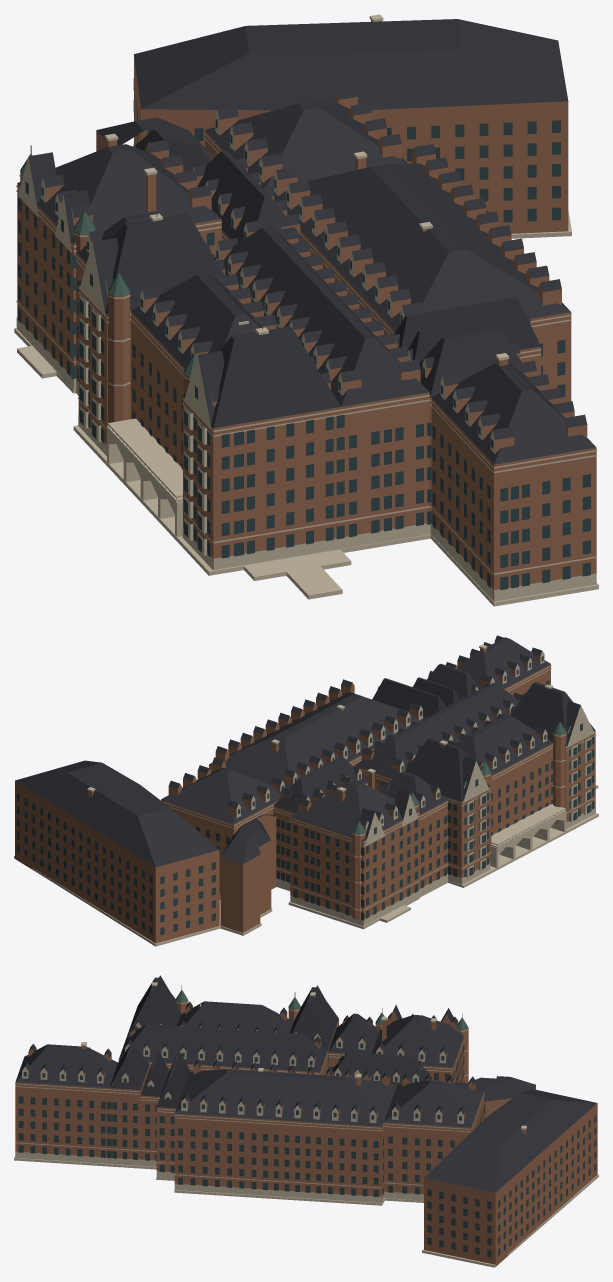
File: fairmont-empress-far.glb
3 views of the same model, one above another, from view 1: azimuth 30°, elevation 25°; view 2: azimuth 150°, elevation 25°; view 3: azimuth 270°, elevation 25° (orthographic). The views are drawn at different scales.
Visible parts, largest first — view 1: fairmont-empress-0-slate, fairmont-empress-0-brick, fairmont-empress-0-stone, fairmont-empress-0-glass, fairmont-empress-0-glow, fairmont-empress-0-copper; view 2: fairmont-empress-0-slate, fairmont-empress-0-brick, fairmont-empress-0-stone, fairmont-empress-0-glass, fairmont-empress-0-glow; view 3: fairmont-empress-0-slate, fairmont-empress-0-brick, fairmont-empress-0-stone, fairmont-empress-0-glass, fairmont-empress-0-glow.
Part boxes in pixels (bbox=[...]): fairmont-empress-0-slate: bbox=[17, 19, 595, 464]; fairmont-empress-0-brick: bbox=[17, 20, 596, 601]; fairmont-empress-0-stone: bbox=[14, 14, 598, 606]; fairmont-empress-0-glass: bbox=[18, 78, 590, 590]; fairmont-empress-0-glow: bbox=[18, 110, 590, 583]; fairmont-empress-0-copper: bbox=[20, 154, 196, 377]; fairmont-empress-0-slate: bbox=[15, 635, 595, 867]; fairmont-empress-0-brick: bbox=[15, 641, 595, 943]; fairmont-empress-0-stone: bbox=[14, 644, 598, 946]; fairmont-empress-0-glass: bbox=[17, 656, 594, 935]; fairmont-empress-0-glow: bbox=[24, 769, 594, 929]; fairmont-empress-0-slate: bbox=[15, 975, 596, 1192]; fairmont-empress-0-brick: bbox=[15, 996, 597, 1266]; fairmont-empress-0-stone: bbox=[14, 982, 598, 1267]; fairmont-empress-0-glass: bbox=[18, 1025, 596, 1257]; fairmont-empress-0-glow: bbox=[18, 1044, 590, 1254].
Bounding box in the file's own units: 113 × 35.4 × 154.
